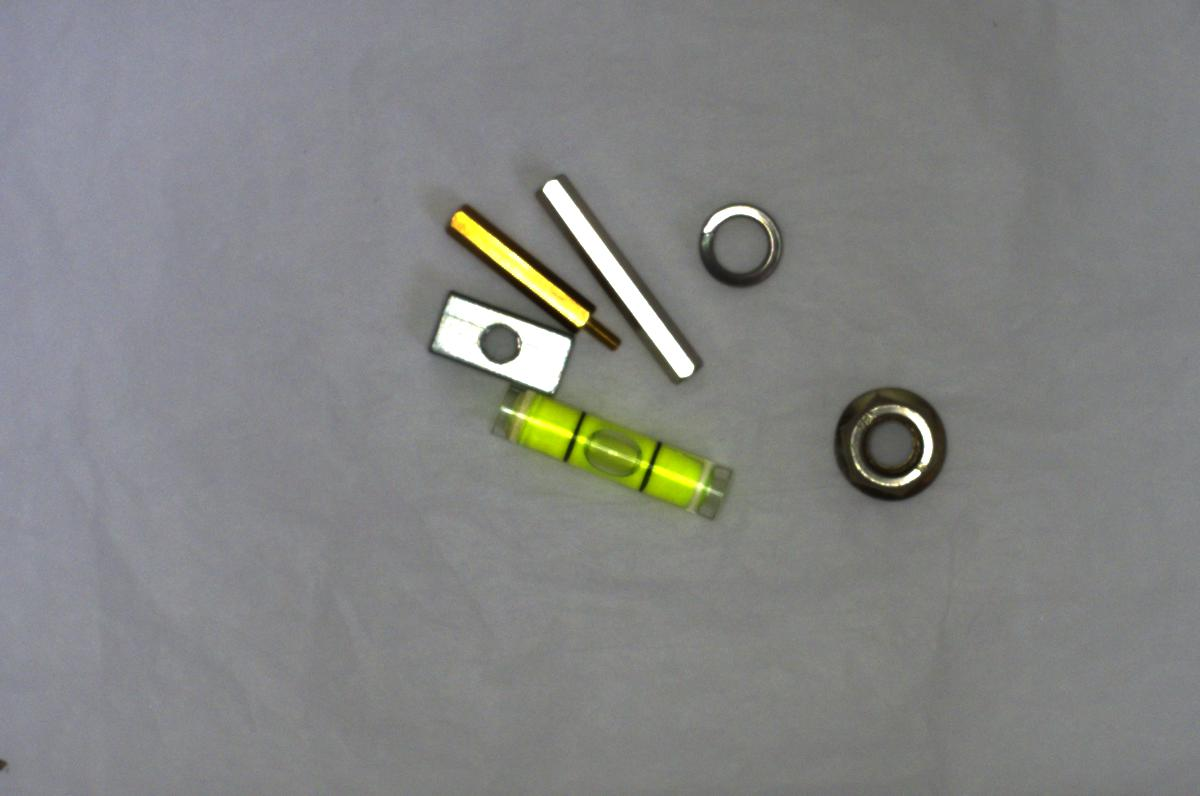Double hexagonal column: (532, 167, 699, 387)
Flange nut: (825, 376, 954, 505)
Hexagon pillar: (438, 200, 624, 352)
Horizontal bubble: (468, 385, 738, 527)
Rectangular nut: (419, 288, 577, 399)
Spring washer: (694, 199, 790, 292)
